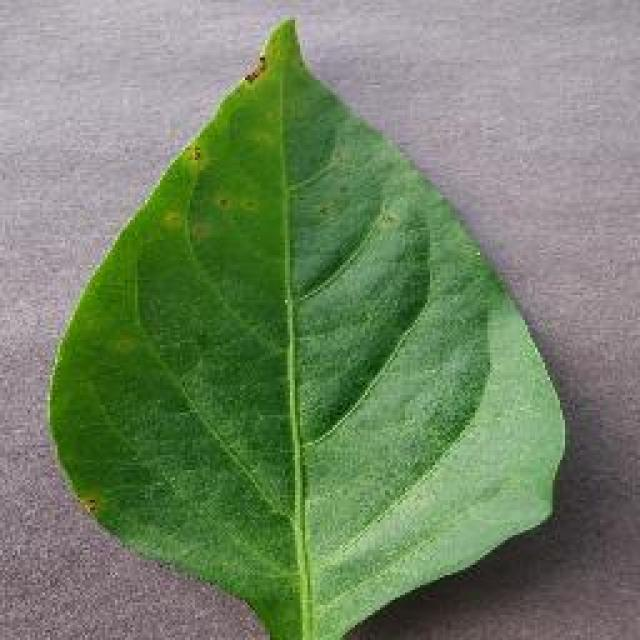Leaf: (124, 184, 532, 534)
